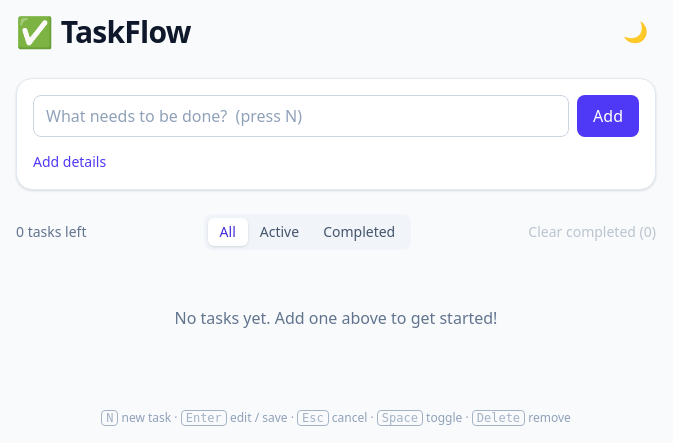
Test: TaskFlow app › adds a task and persists it to localStorage
In the field named "New task": point(301, 116) [33,95,569,137], type "Buy groceries"
Then press Enter
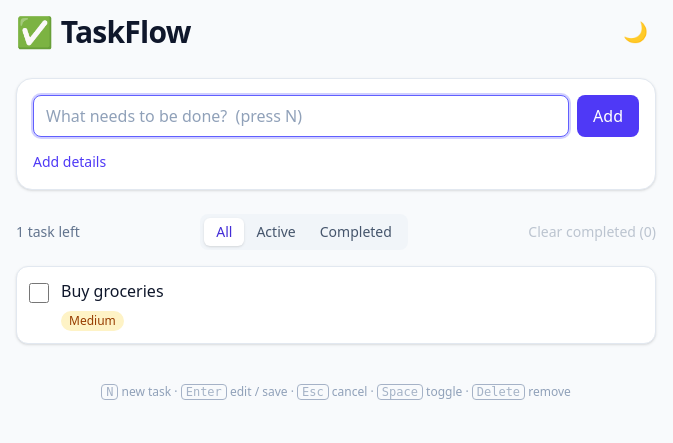
Now the text "Buy groceries" is shown, box [61,280,164,302]
